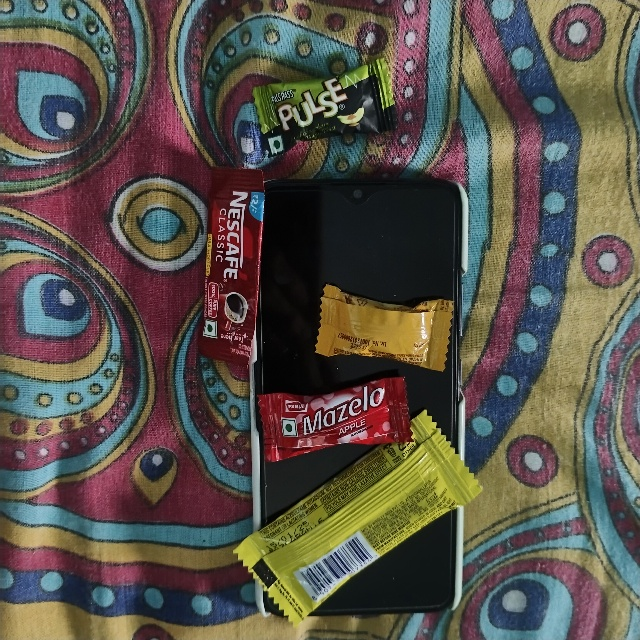Alpenlibe Creamfills: (320, 279, 460, 355)
Mazelo: (250, 402, 411, 472)
Nescafe Coffee: (206, 162, 266, 361)
Orbit: (426, 405, 528, 640)
Pulse: (241, 94, 394, 165)
